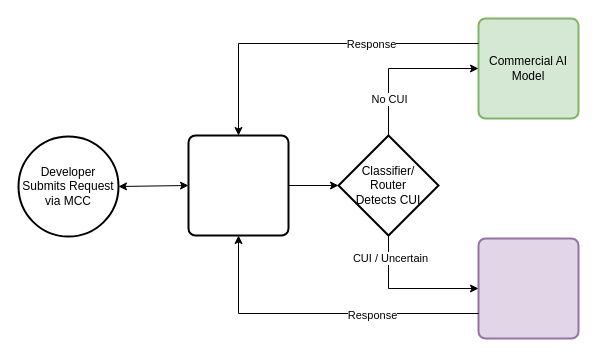
This 596x356 diagram has some shape labels left out. Here are the shapes that lost their labels. From the top down, the box of each, then its label:
(187, 134, 289, 236): Marlin Code CLI (MCC)
(477, 237, 579, 339): Azure OpenAI at IL5
